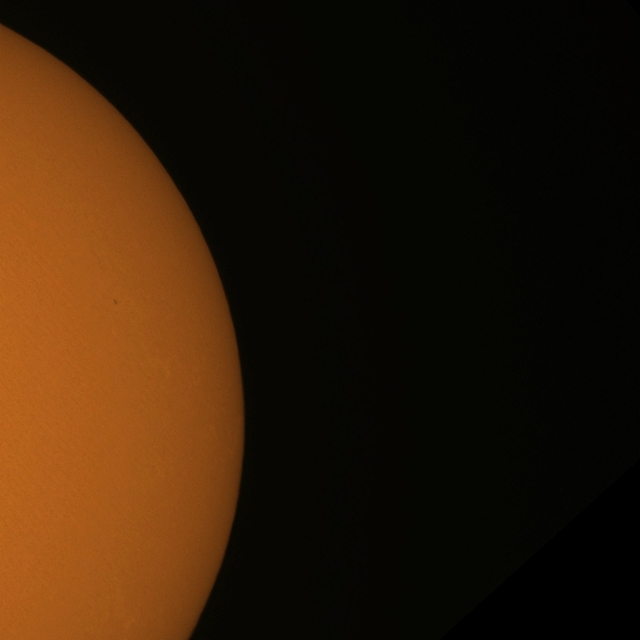sunspot: (112, 298, 119, 306)
